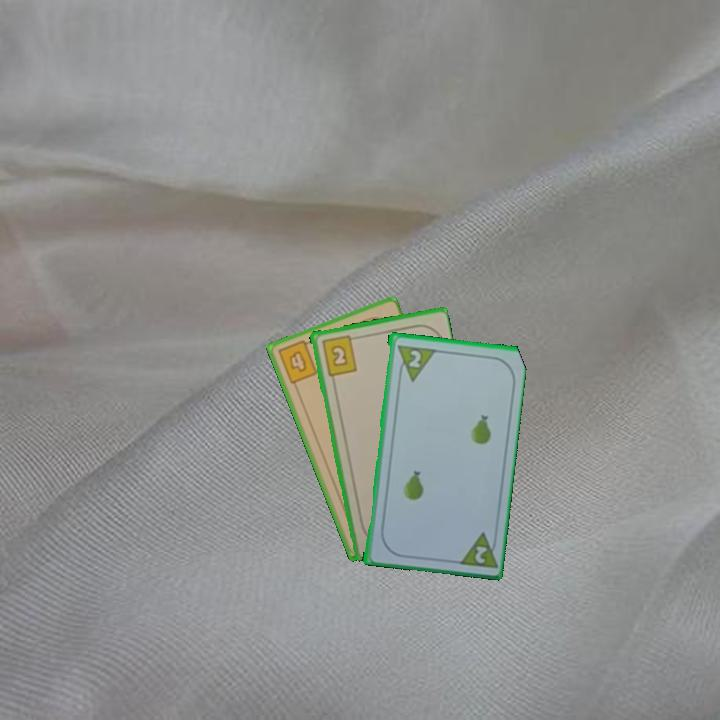2b: (318, 332, 360, 378)
2p: (404, 346, 424, 370), (471, 542, 489, 566)
4b: (274, 336, 320, 387)
